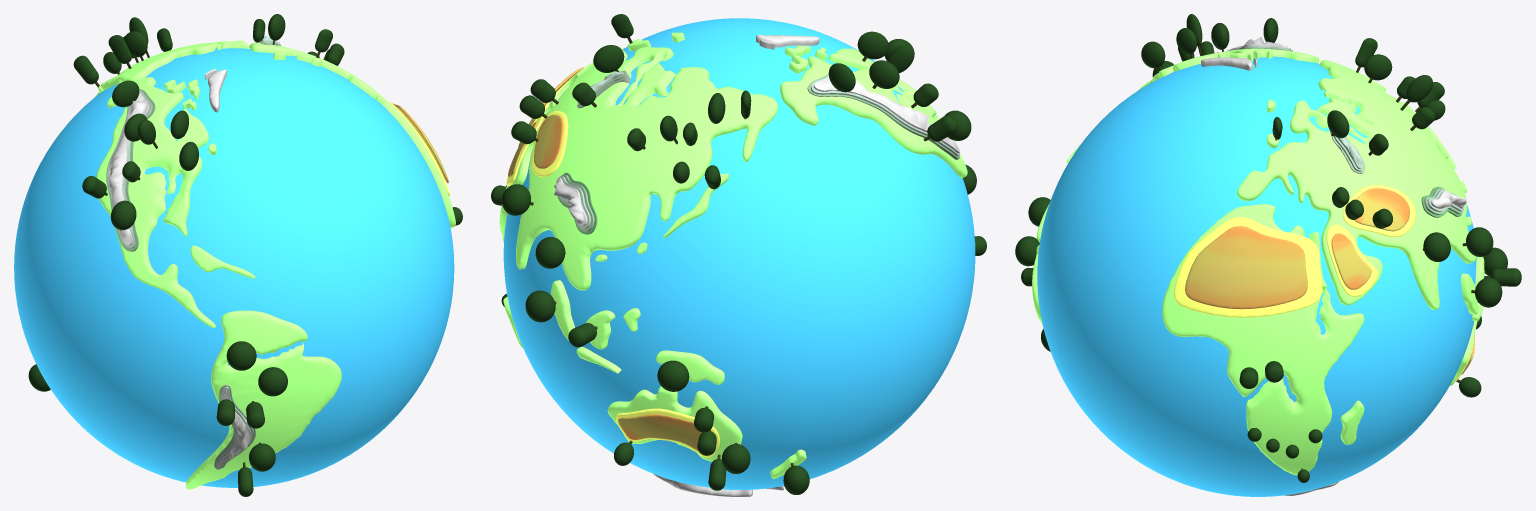
3 views of the same model, side by side, from view 1: azimuth 30°, elevation 25°; view 2: azimuth 150°, elevation 25°; view 3: azimuth 270°, elevation 25° (orthographic). The views are drawn at different scales.
Parts seen in each view (by area): view 1: Sea, Mainland, Trees, Mountains, Desert, Ice; view 2: Sea, Mainland, Trees, Desert, Mountains, Ice; view 3: Sea, Mainland, Desert, Trees, Mountains, Ice.
Part boxes in pixels (x1,y1,x2,y2): Sea: (14, 48, 454, 487); Mainland: (94, 40, 455, 489); Trees: (28, 14, 462, 496); Mountains: (106, 36, 280, 469); Desert: (388, 101, 449, 196); Ice: (204, 68, 226, 112); Sea: (503, 18, 975, 489); Mainland: (499, 32, 967, 478); Trees: (491, 14, 986, 494); Desert: (506, 67, 719, 457); Mountains: (554, 70, 960, 234); Ice: (653, 34, 819, 496); Sea: (1037, 56, 1477, 496); Mainland: (1032, 48, 1484, 475); Desert: (1174, 185, 1474, 381); Trees: (1015, 14, 1521, 482); Mountains: (1217, 37, 1466, 217); Ice: (1201, 57, 1338, 495).
Size of the model in its own units: 14.43 by 13.76 by 15.27.
